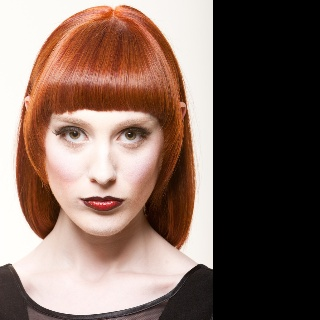without_mask: (43, 110, 165, 235)
